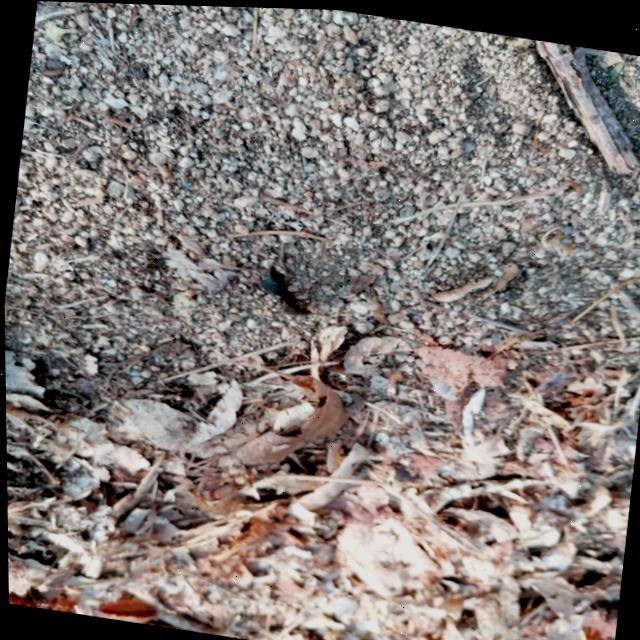Alive-Female-Dealate: (236, 240, 341, 324)
